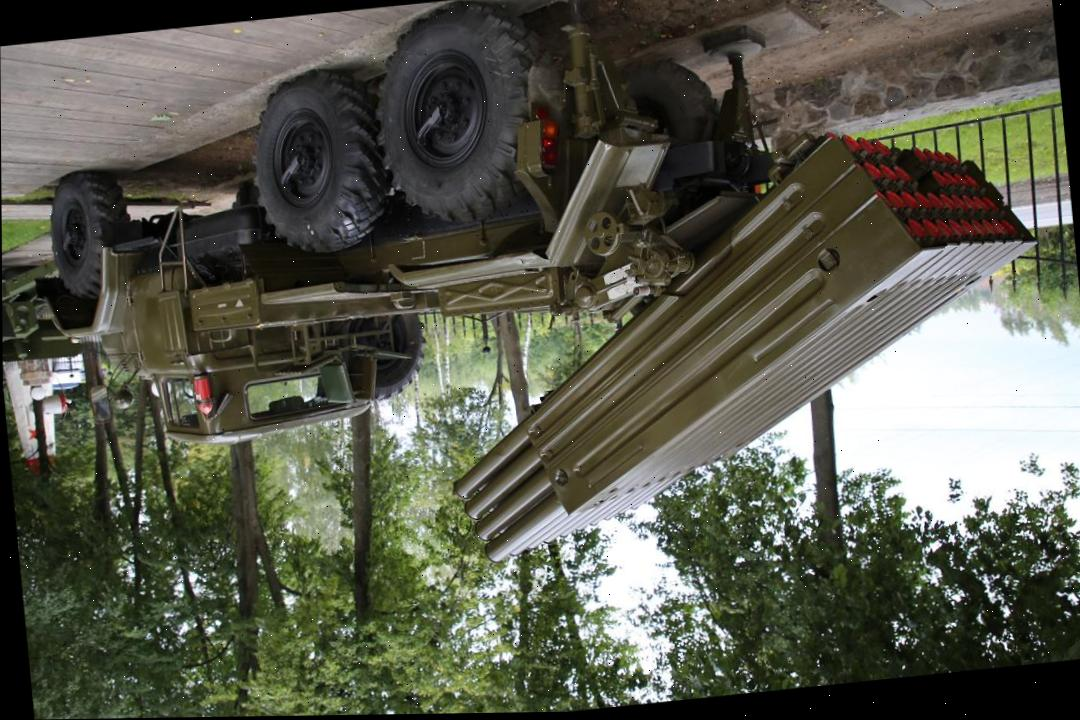rszo: (4, 0, 1025, 615)
